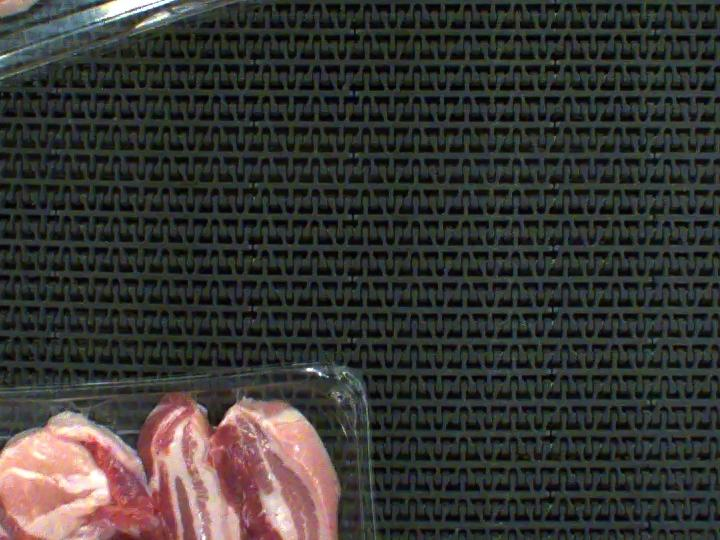packaging-error: (24, 380, 325, 427)
